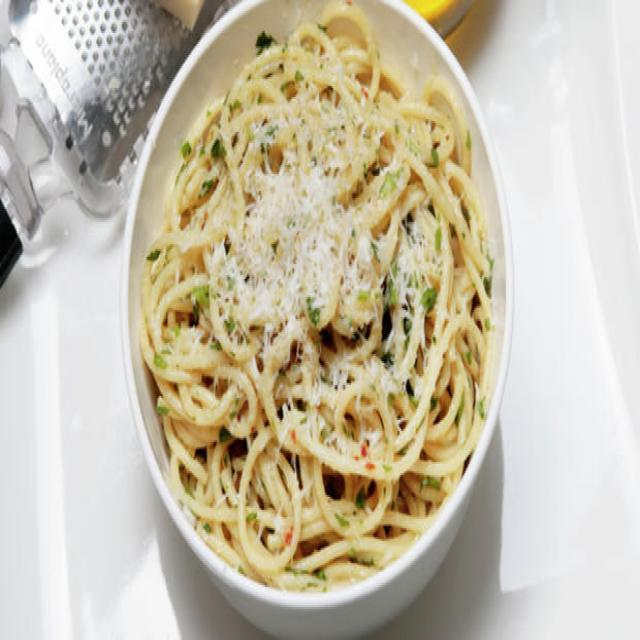Oil pasta: (136, 33, 534, 574)
